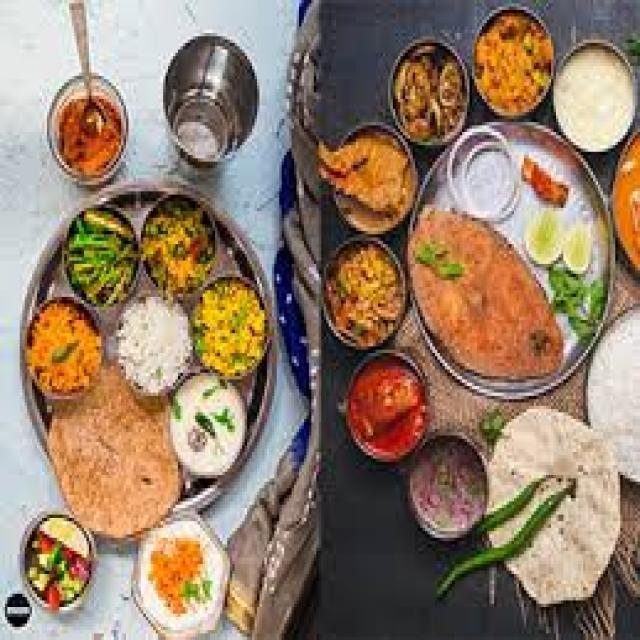papad: (480, 413, 626, 585), (315, 122, 421, 236)
pickle: (338, 351, 435, 466)
raita: (167, 370, 256, 480)
rice: (321, 238, 410, 347), (112, 291, 198, 400), (584, 310, 640, 476)
roti: (45, 382, 183, 543)
sambar-rasam: (552, 31, 638, 153)
sweet: (166, 39, 260, 166), (131, 523, 230, 632), (47, 78, 134, 181), (449, 137, 520, 220)
veg-fry: (403, 206, 575, 398), (139, 198, 220, 295)
